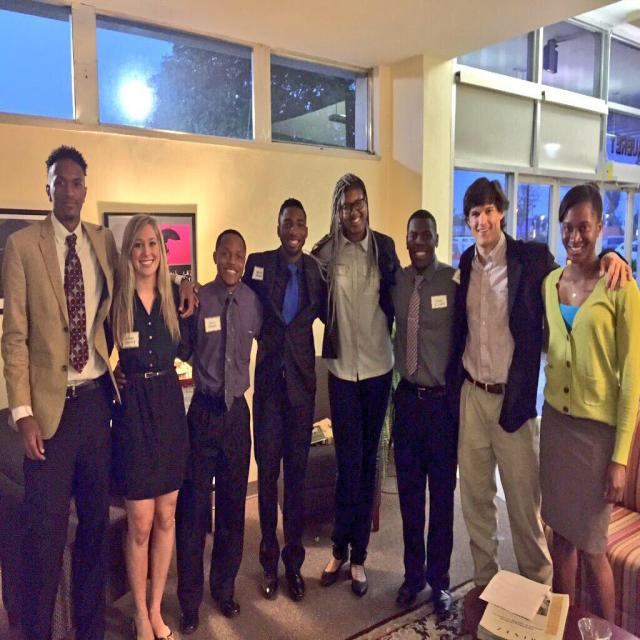body: (454, 175, 635, 592), (0, 142, 125, 639), (190, 195, 331, 602), (537, 181, 639, 625), (102, 211, 197, 640), (308, 172, 401, 596), (173, 226, 267, 636), (386, 208, 462, 622), (518, 208, 554, 244)
